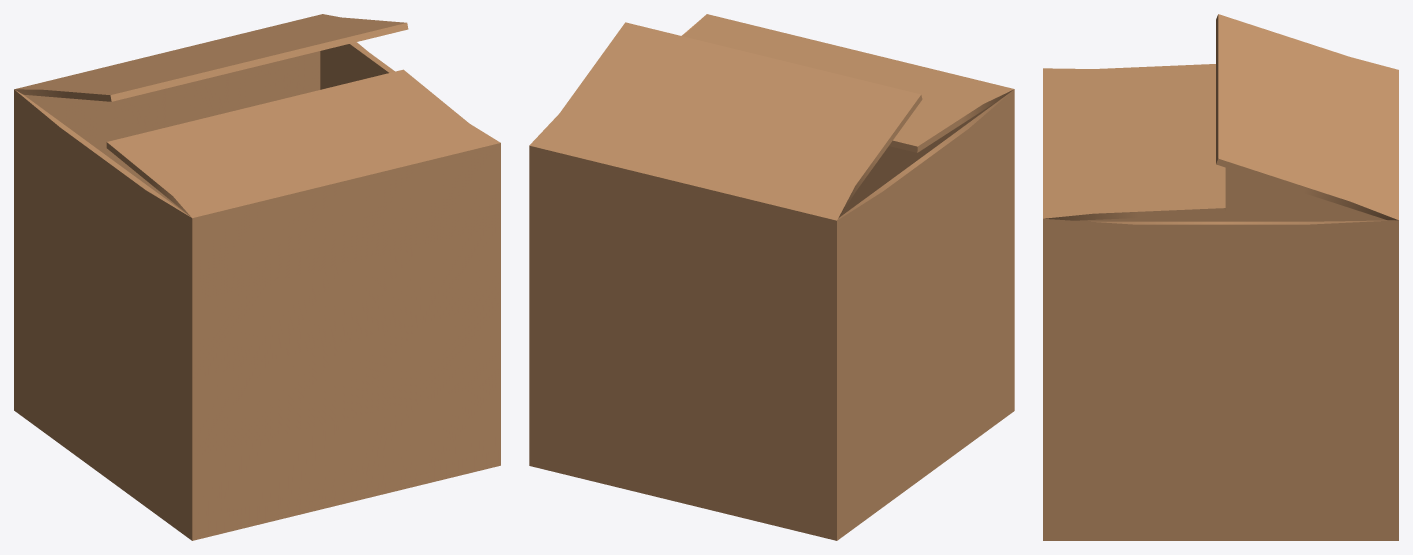
The model's file is Boite.fbx.
3 views of the same model, side by side, from view 1: azimuth 30°, elevation 25°; view 2: azimuth 150°, elevation 25°; view 3: azimuth 270°, elevation 25° (orthographic).
Parts seen in each view (by area): view 1: Boite; view 2: Boite; view 3: Boite.
Boxes of the visible parts, x1=… form: Boite: x1=14, y1=14, x2=500, y2=540; Boite: x1=529, y1=14, x2=1014, y2=540; Boite: x1=1043, y1=14, x2=1398, y2=540.
Size of the model in its own units: 0.5355 by 0.6301 by 0.5355.
